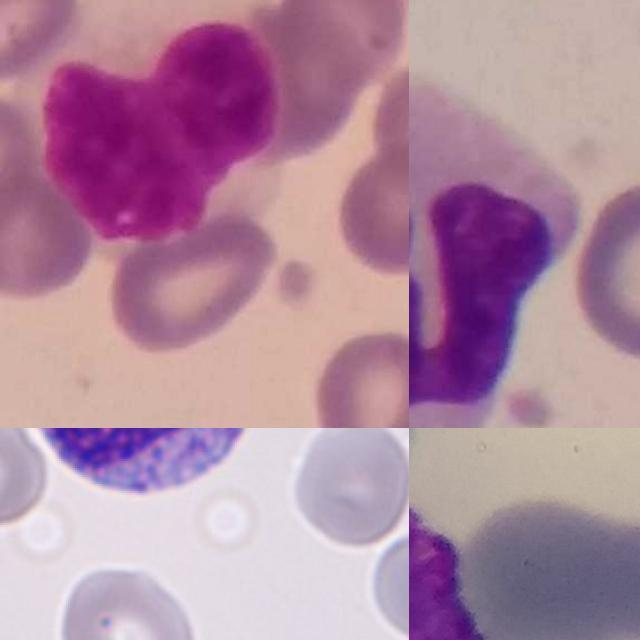Basophil: (409, 478, 488, 640)
Eosinophil: (26, 428, 264, 485)
Monocyte: (24, 0, 297, 248), (409, 82, 583, 428)
RBC: (286, 428, 409, 553), (361, 527, 409, 640), (0, 428, 52, 530)
